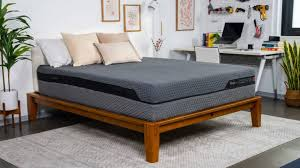bed-matress: (36, 57, 258, 122)
